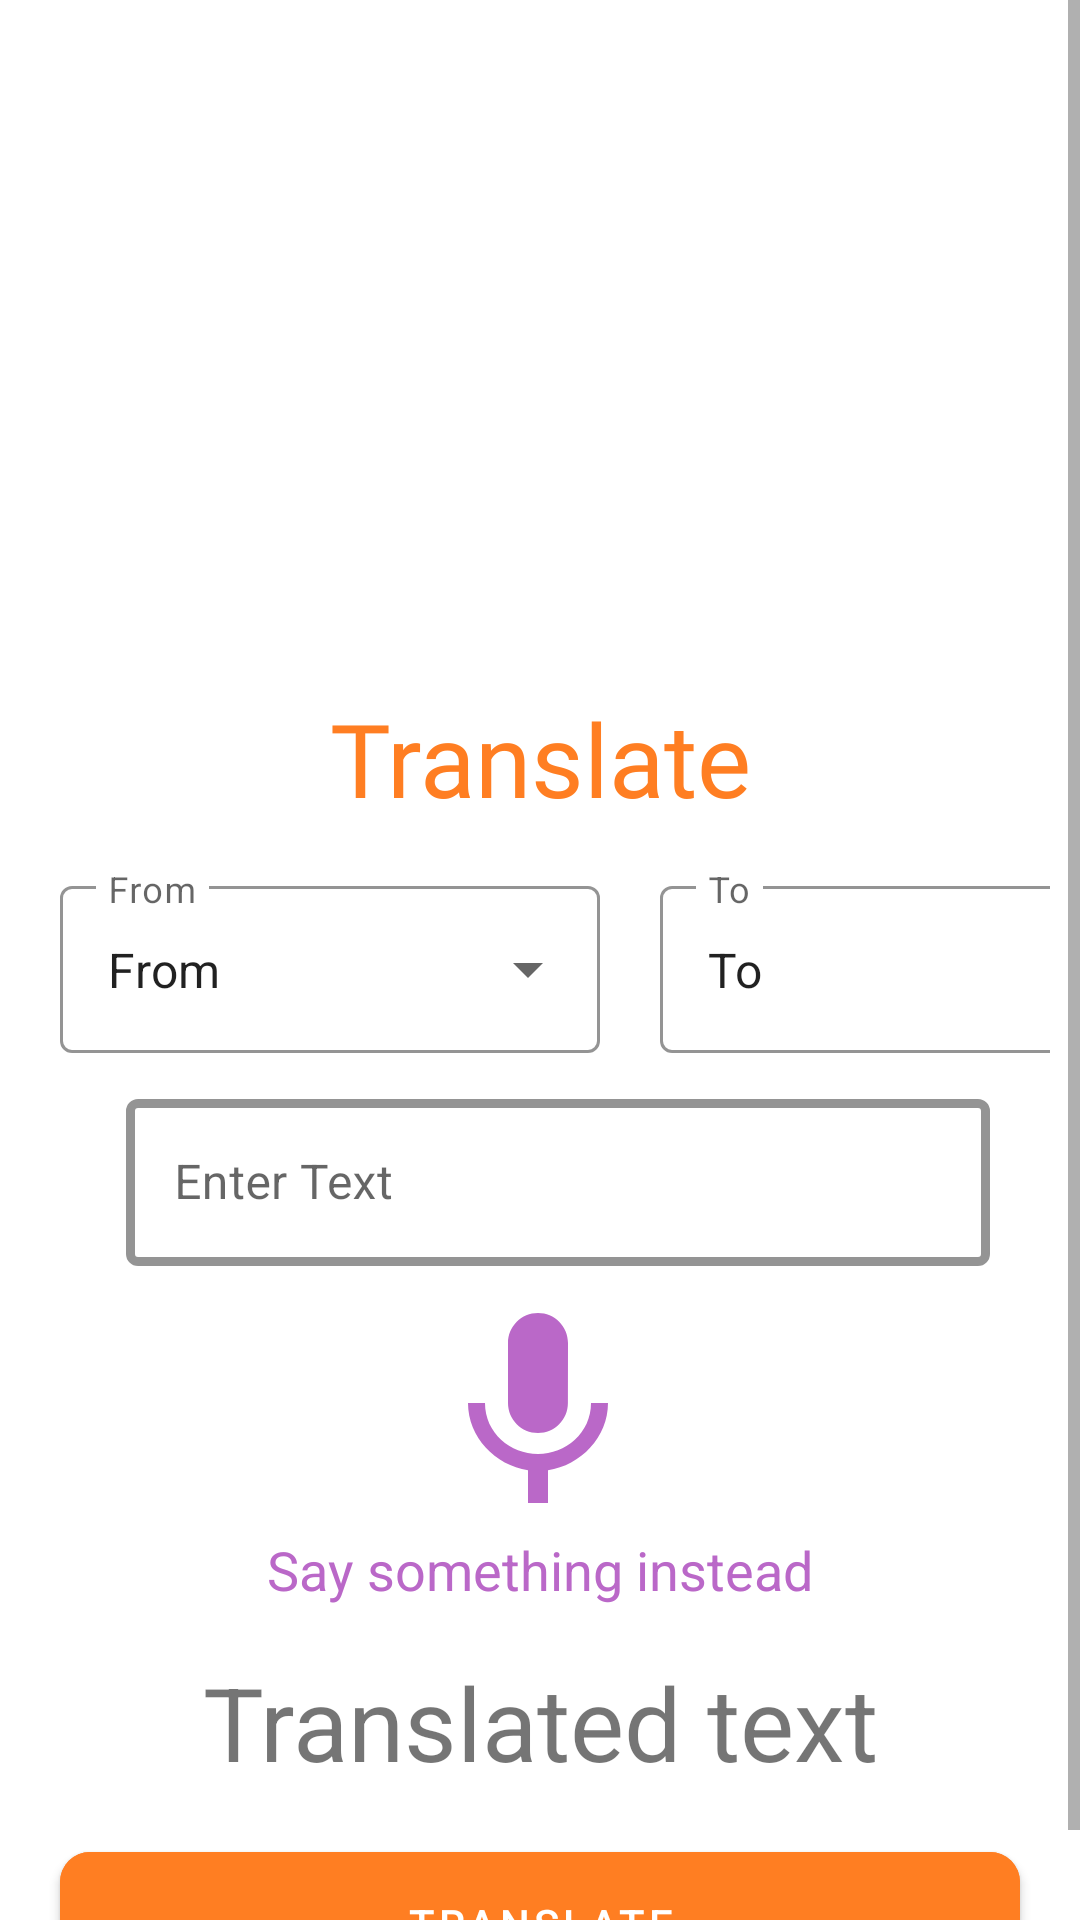

Where to tap for icons on this 1080px×1920px app screen, as (x,y):
this is the image of a microphone: (538,1408)
